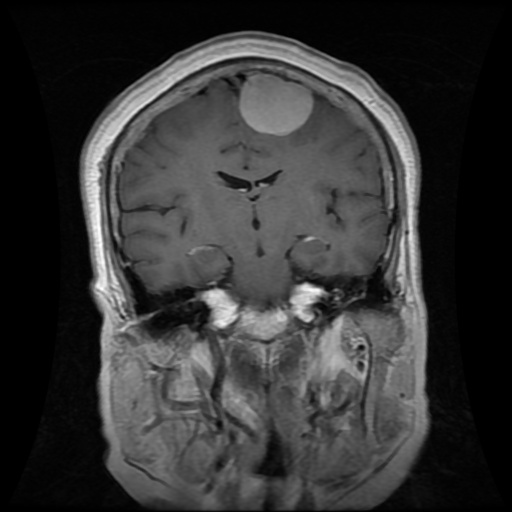meningioma: (240, 73, 314, 134)
